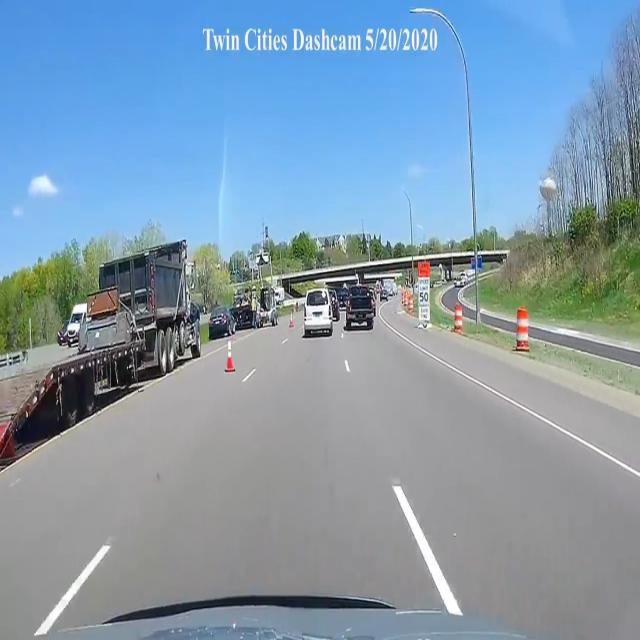Traffic Cone: (224, 343, 240, 372), (288, 311, 294, 329)
